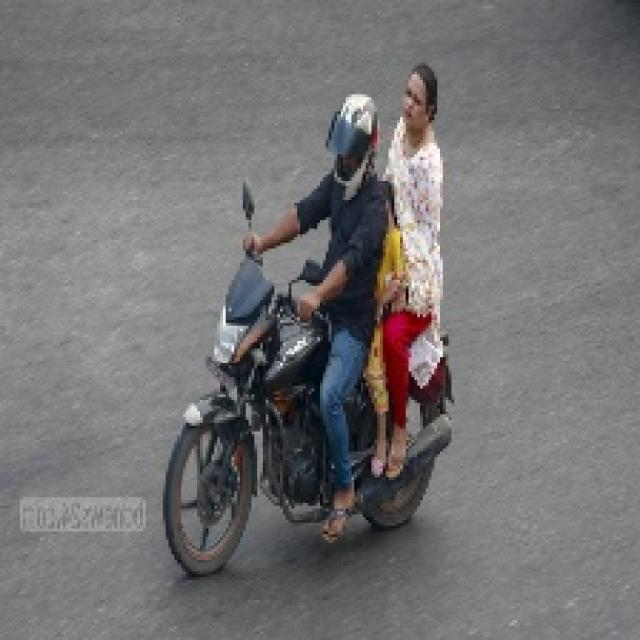bike: (159, 233, 454, 568)
